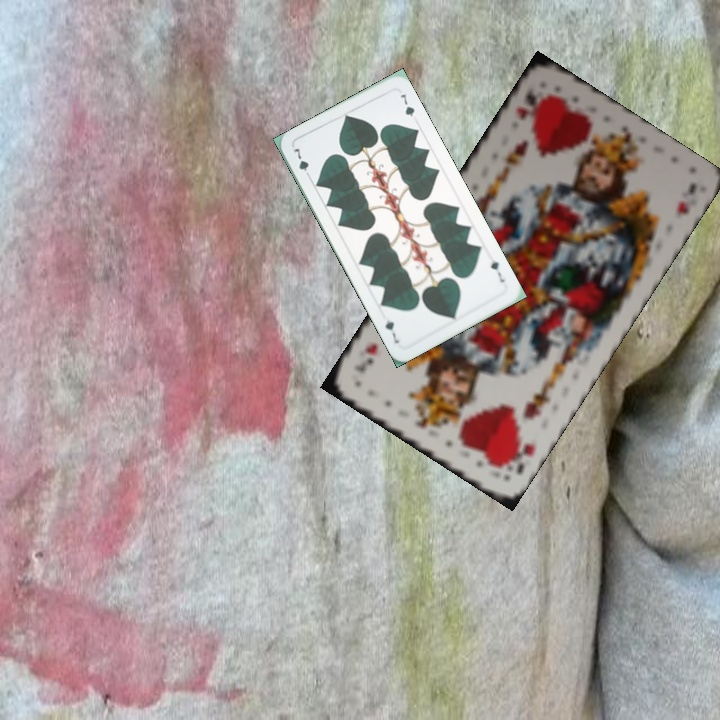G7: (289, 143, 314, 181), (486, 256, 507, 285)
HK: (497, 433, 538, 477), (512, 85, 541, 124)
